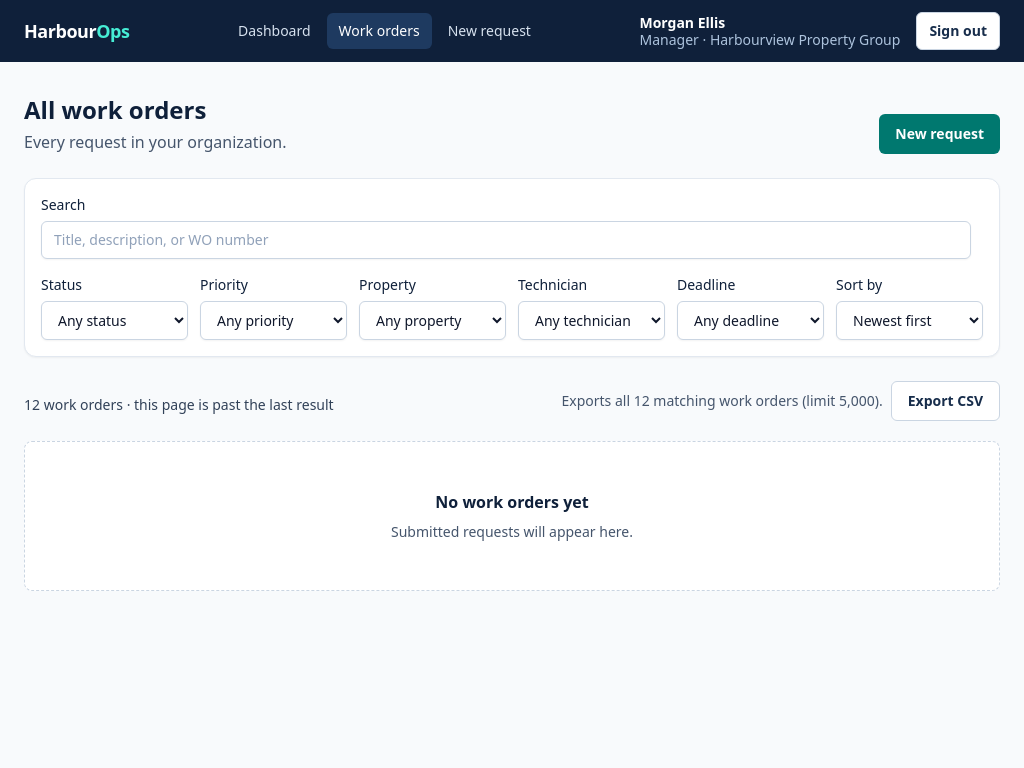
Exporting the work-order list › shows the server's reason when an export is refused
Click the button "Export CSV" at (945, 401), box [891,381,1000,421]
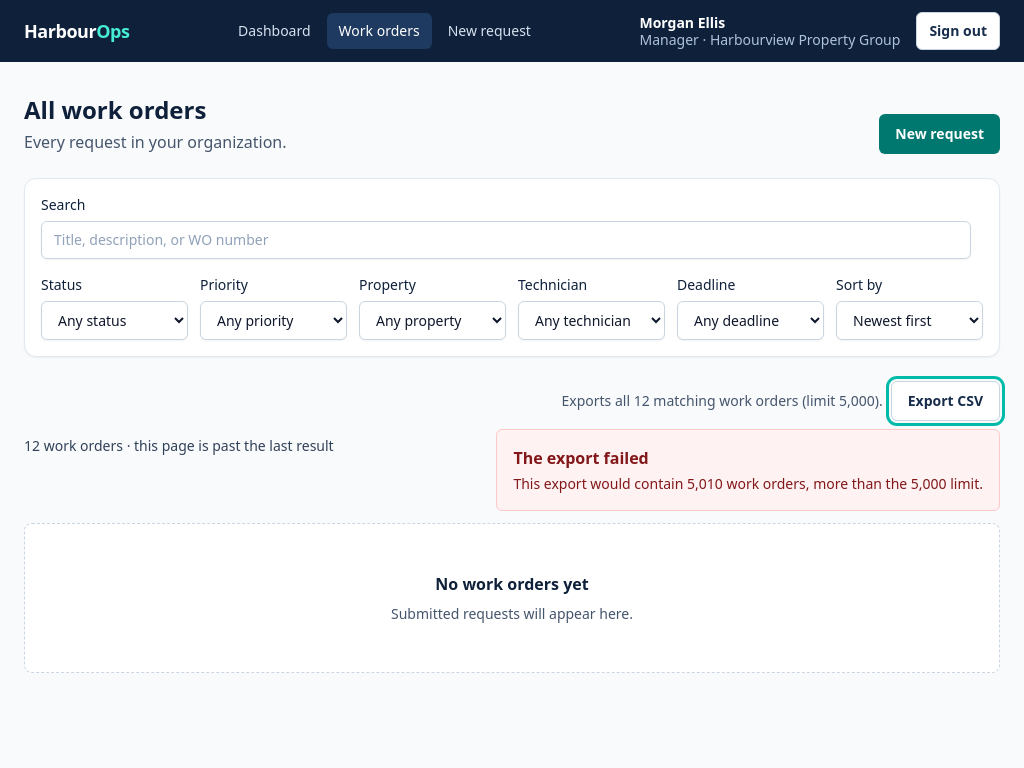
Check: the message that starts with "The export failed" shows "more than the 5,000 limit", box [513,474,983,493]
